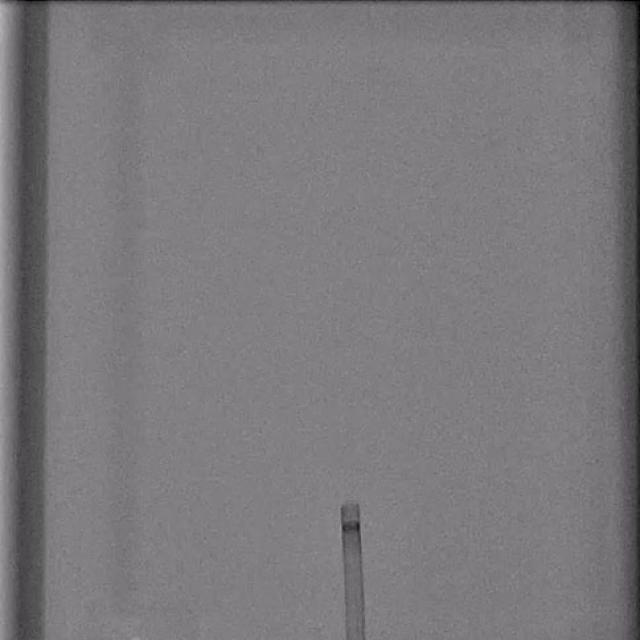entry: (346, 634, 366, 639)
marker: (341, 520, 362, 535)
tip: (342, 502, 359, 509)
